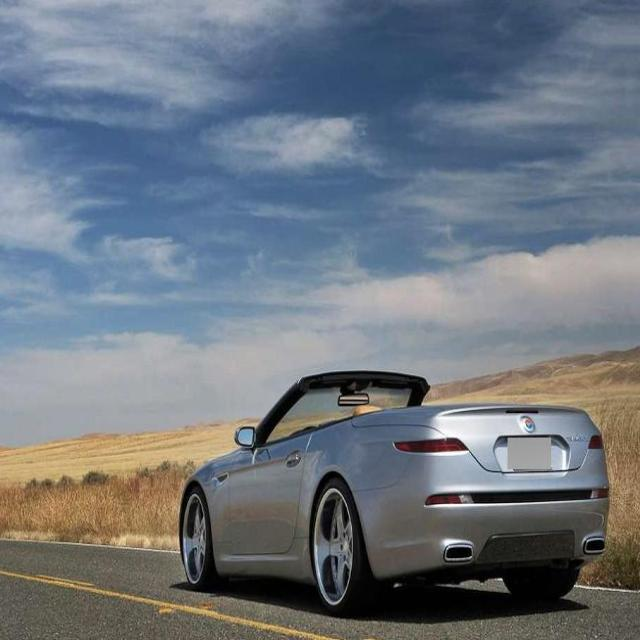back_left_side_light: (392, 433, 471, 460)
back_right_side_light: (586, 425, 610, 454)
front_glass: (269, 382, 412, 438)
front_left_side_door: (226, 416, 312, 561)
front_left_side_mirror: (234, 422, 259, 453)
rear_bumper: (356, 446, 607, 574)
wheel: (312, 480, 360, 610), (180, 490, 215, 582)
